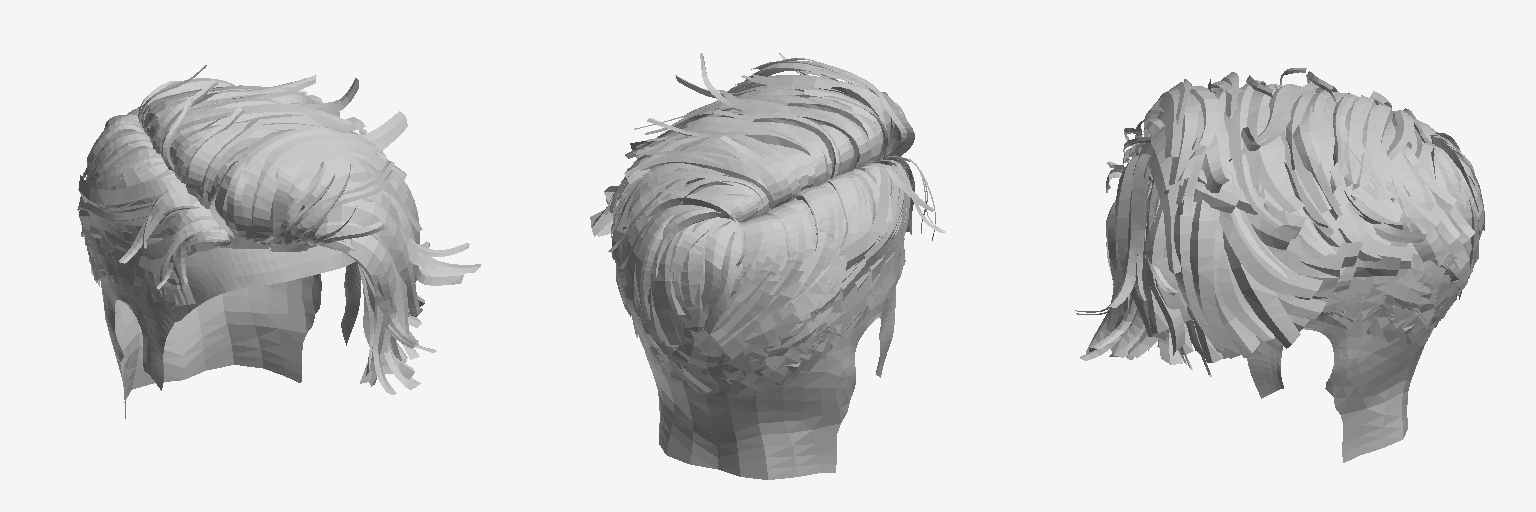
The model's file is Male Hair05.obj.
The picture shows the model from 3 angles: view 1: azimuth 30°, elevation 25°; view 2: azimuth 150°, elevation 25°; view 3: azimuth 270°, elevation 25°; orthographic projection.
Visible parts, largest first — view 1: hair05, haircap1; view 2: hair05, haircap1; view 3: hair05, haircap1.
Part boxes in pixels (x1,y1,x2,y2): hair05: (77, 65, 480, 394); haircap1: (100, 245, 361, 418); hair05: (590, 53, 944, 395); haircap1: (644, 288, 895, 479); hair05: (1075, 68, 1484, 376); haircap1: (1247, 319, 1425, 462).
Bounding box in the file's own units: 20.01 × 20.79 × 22.78.